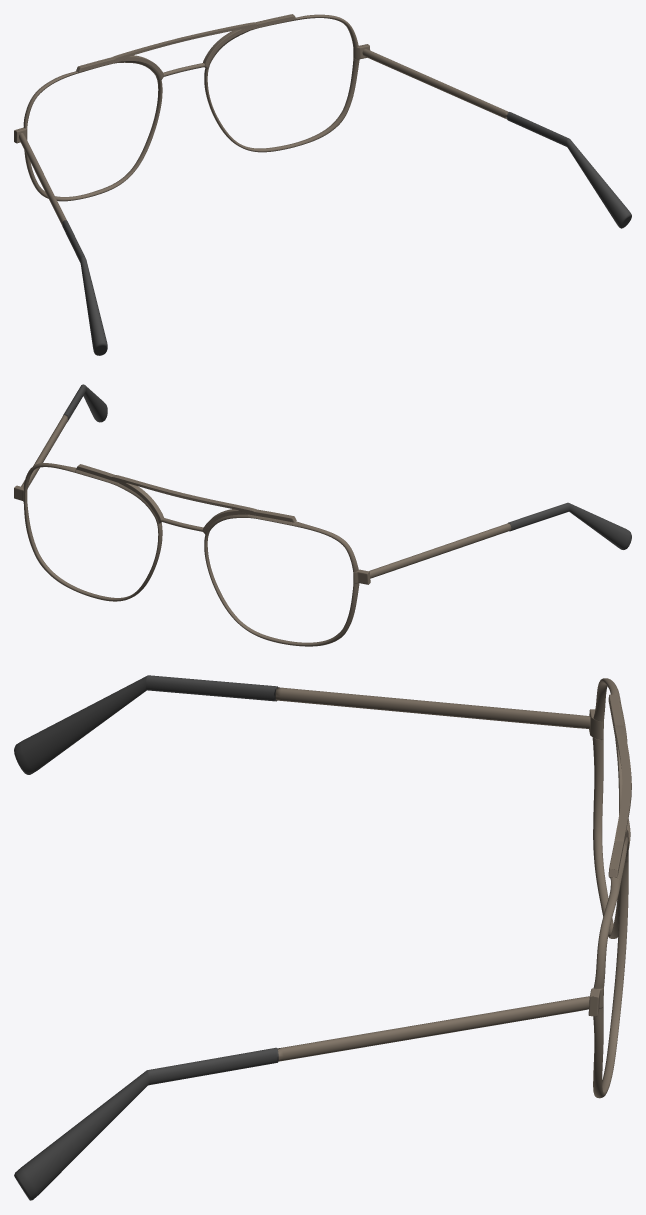
Rendered from new_aviator.fbx.
3 views of the same model, one above another, from view 1: azimuth 30°, elevation 25°; view 2: azimuth 150°, elevation 25°; view 3: azimuth 270°, elevation 25° (orthographic). The views are drawn at different scales.
Visible parts, largest first — view 1: Circle.001; view 2: Circle.001; view 3: Circle.001.
Boxes of the visible parts, bbox=[...] form: Circle.001: bbox=[14, 14, 631, 355]; Circle.001: bbox=[14, 384, 631, 646]; Circle.001: bbox=[14, 675, 631, 1200].
Bounding box in the file's own units: 18.29 × 4.25 × 10.93.
